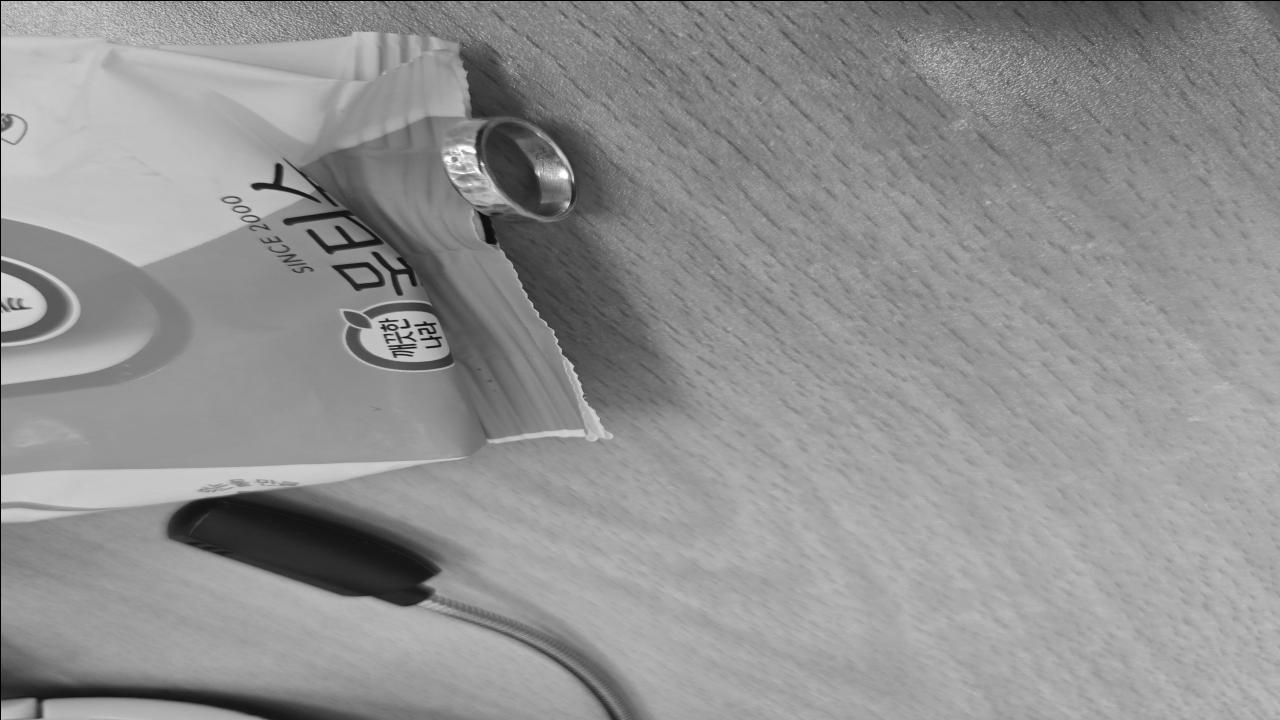ring: (436, 116, 578, 221)
